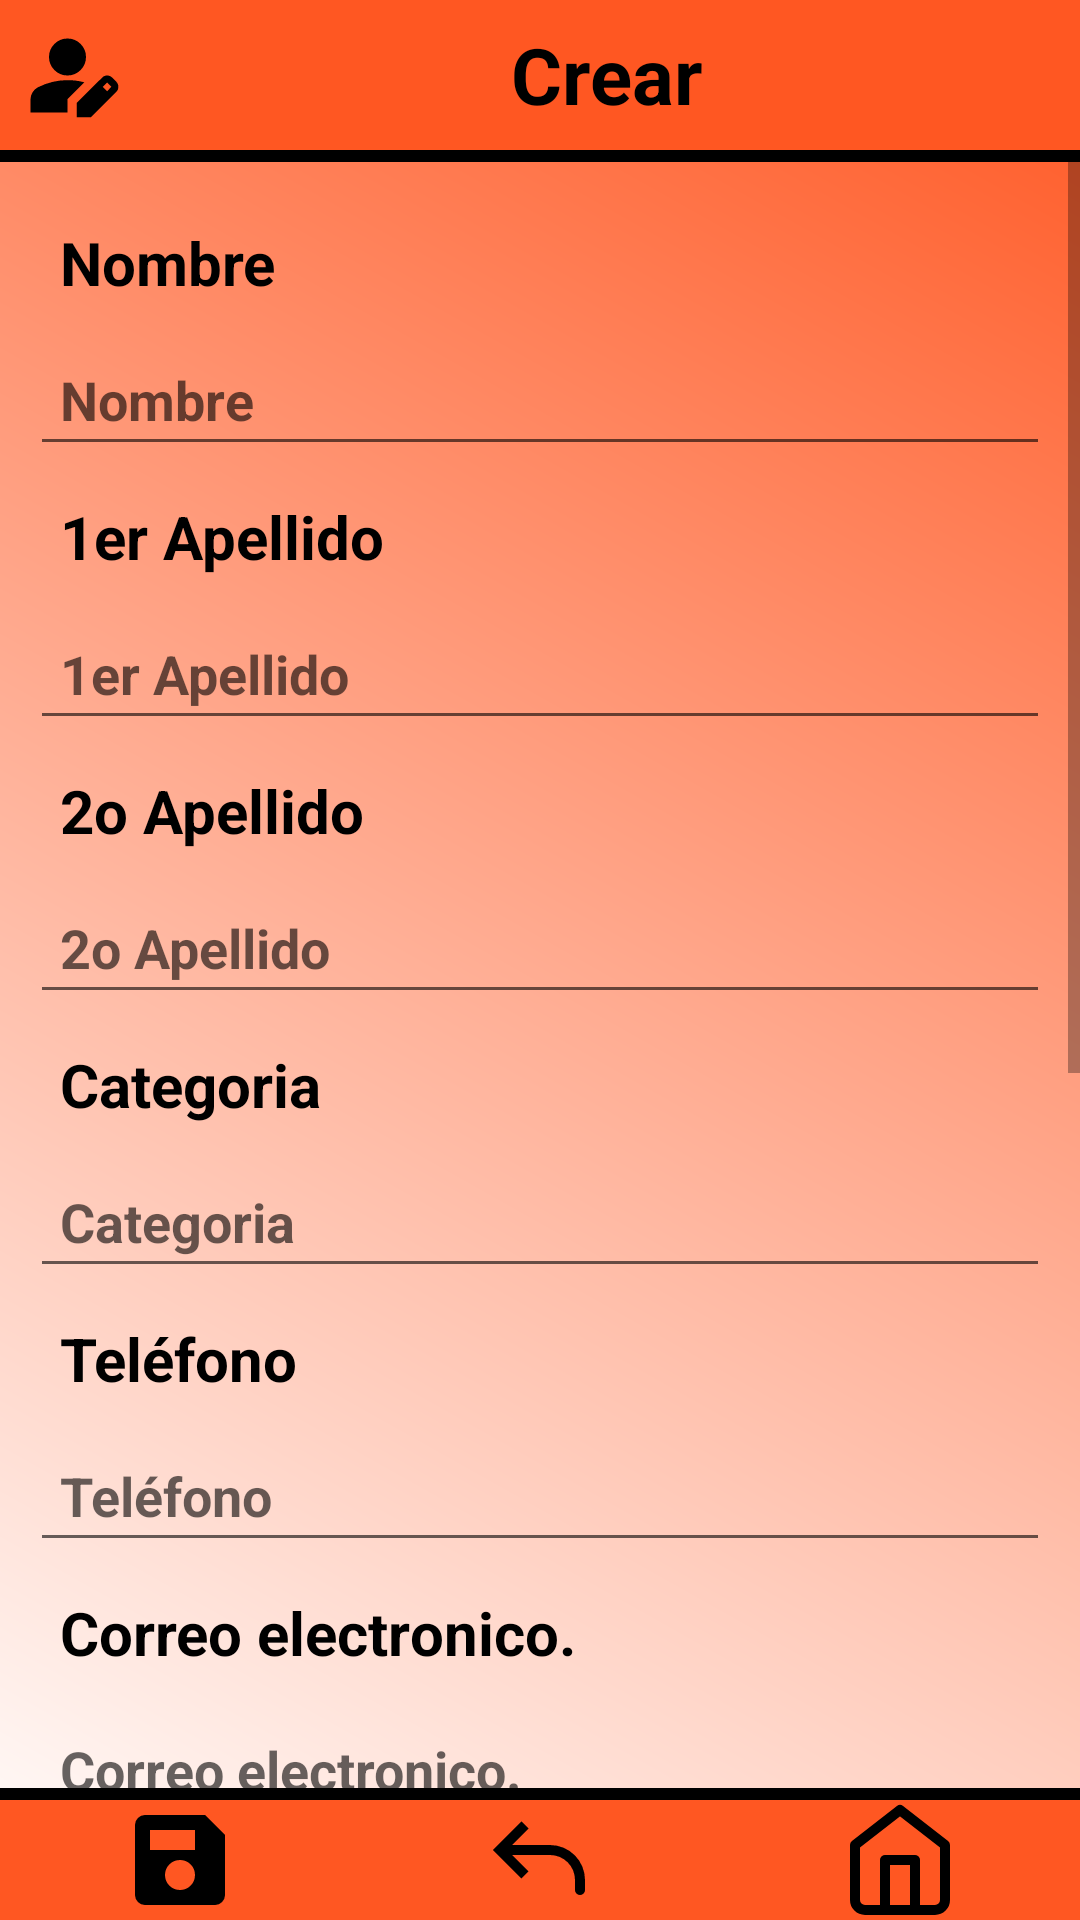

Locate icon controls on the screen. Image size 1080px x 1920px, boxes as (x1, y1, x2, y2).
back: (493, 1821, 585, 1895)
person edit: (30, 38, 119, 118)
